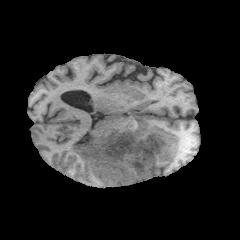glioma: (70, 126, 179, 184)
